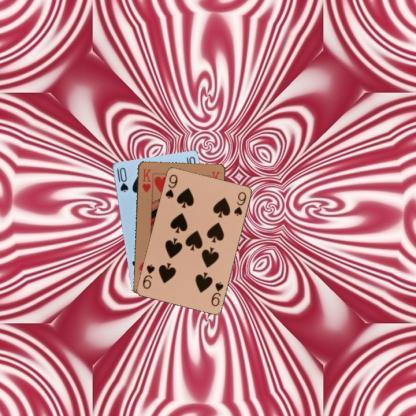10s: (114, 165, 130, 194)
9s: (208, 278, 224, 308), (162, 172, 178, 200)
Kh: (140, 166, 152, 194)
